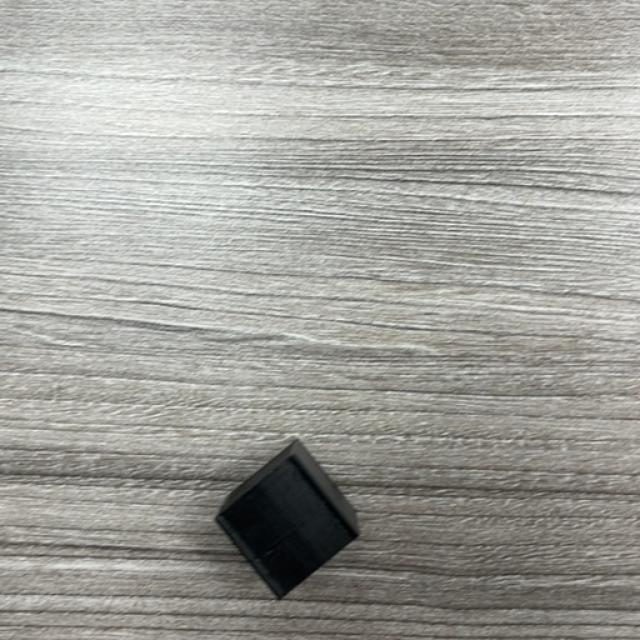Negro: (214, 440, 361, 601)
